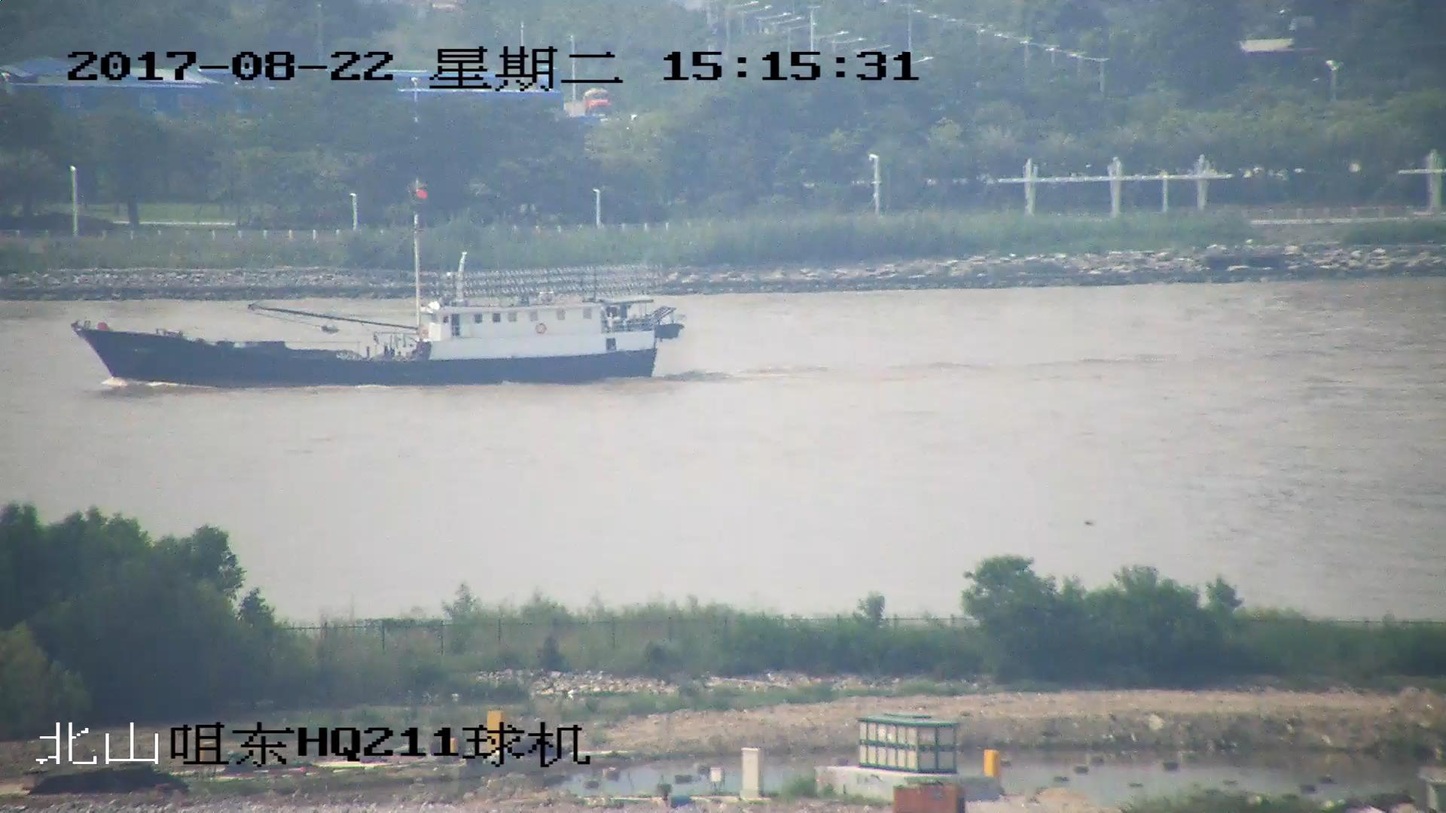fishing boat: (78, 178, 680, 388)
